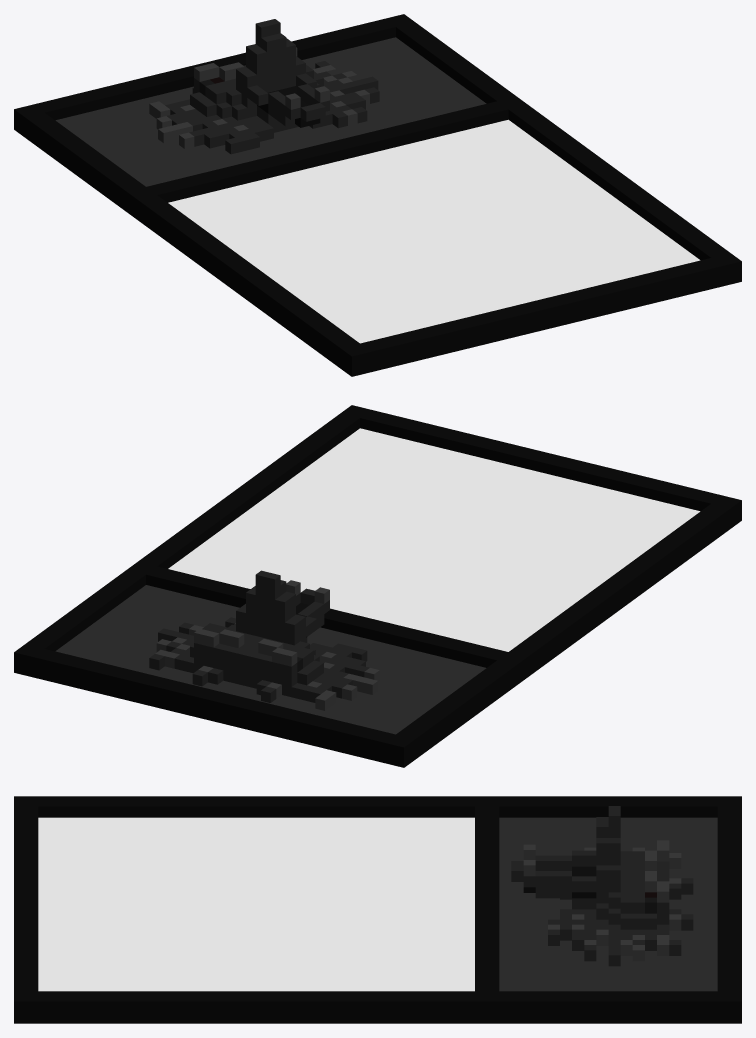
Rendered from tile14.obj.
The picture shows the model from 3 angles, top to bottom: view 1: azimuth 30°, elevation 25°; view 2: azimuth 150°, elevation 25°; view 3: azimuth 270°, elevation 25°; orthographic projection. The views are drawn at different scales.
Bounding box in the file's own units: 4 × 1 × 6.
Materials: 1 (1 with a texture image).
